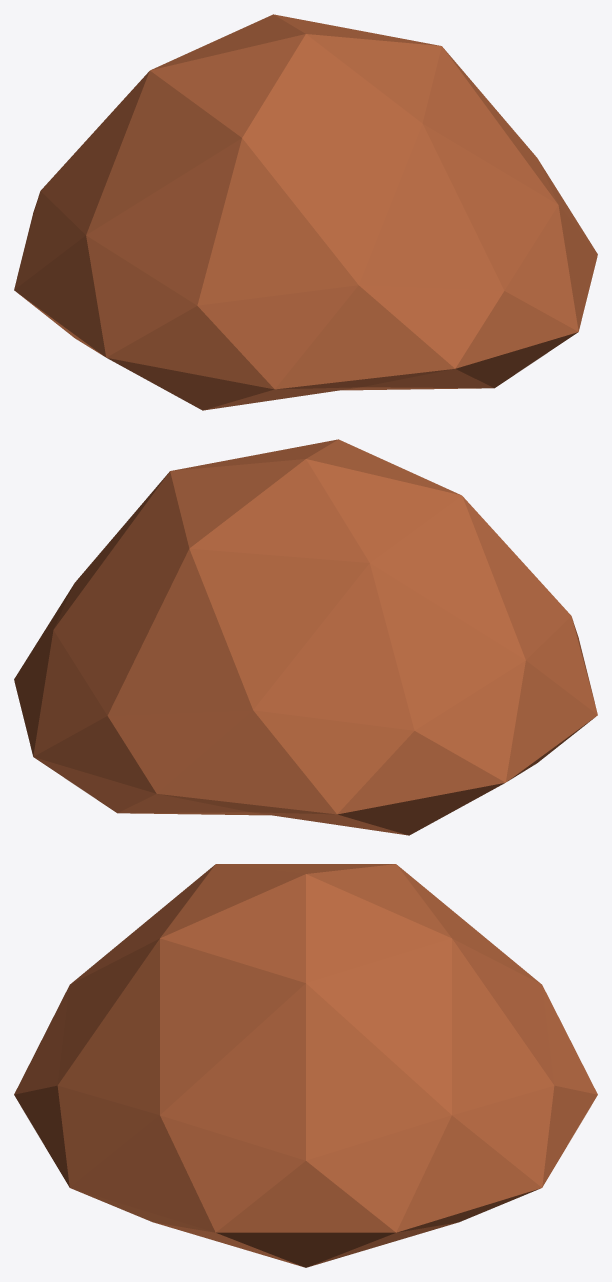
File: rocksmall001.fbx
The picture shows the model from 3 angles, top to bottom: view 1: azimuth 30°, elevation 25°; view 2: azimuth 150°, elevation 25°; view 3: azimuth 270°, elevation 25°; orthographic projection. The views are drawn at different scales.
Visible parts, largest first — view 1: Icosphere.001; view 2: Icosphere.001; view 3: Icosphere.001.
Part boxes in pixels (x1,y1,x2,y2): Icosphere.001: (14,14,597,410); Icosphere.001: (14,439,597,835); Icosphere.001: (14,864,597,1267).
Size of the model in its own units: 190 by 118 by 200.
